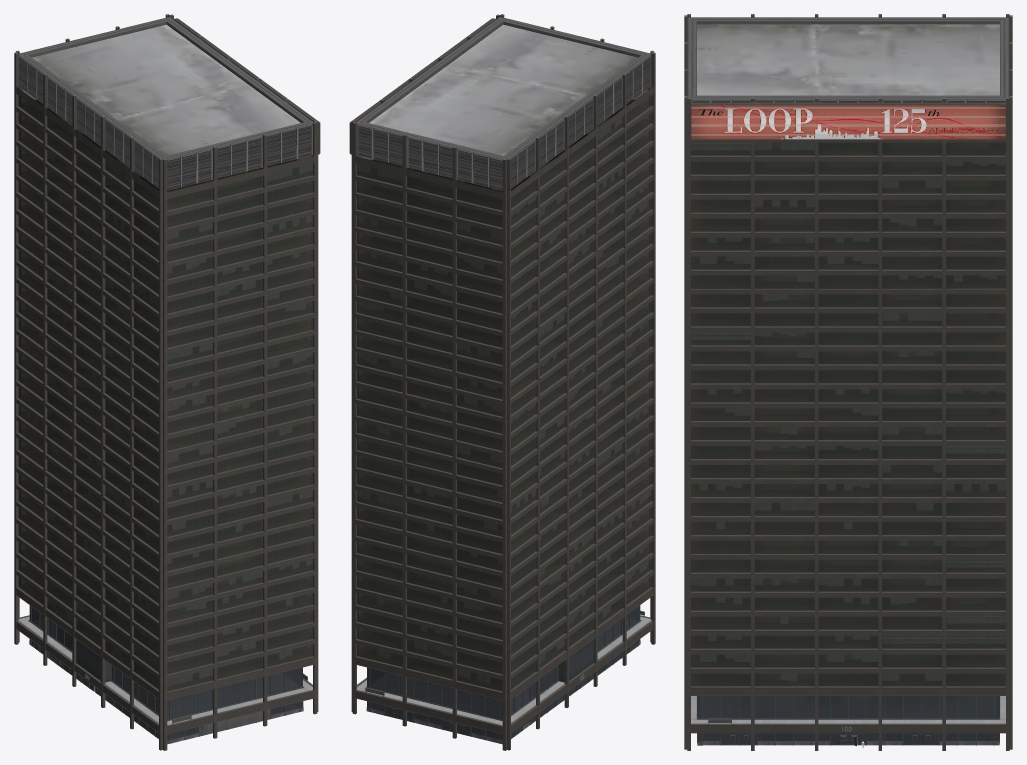
Rendered from office_small.glb.
3 views of the same model, side by side, from view 1: azimuth 30°, elevation 25°; view 2: azimuth 150°, elevation 25°; view 3: azimuth 270°, elevation 25° (orthographic). The views are drawn at different scales.
Parts seen in each view (by area): view 1: Cube.002_Material_0, Cube.005_Glass_0, Cube.012_Parralax Mapping_0, Cube.001_Windows_0, Cube.006_Emmisive_0, Cube.007_Glass Lobby_0, Cube.003_Blinds_0; view 2: Cube.002_Material_0, Cube.005_Glass_0, Cube.012_Parralax Mapping_0, Cube.001_Windows_0, Cube.006_Emmisive_0, Cube.007_Glass Lobby_0, Cube.003_Blinds_0; view 3: Cube.005_Glass_0, Cube.002_Material_0, Cube.012_Parralax Mapping_0, Cube.001_Windows_0, Cube.004_Billboard_0, Cube.007_Glass Lobby_0, Cube.003_Blinds_0, Cube.006_Emmisive_0.
Boxes of the visible parts, x1,y1,x2,y2 form: Cube.002_Material_0: (14,14,320,750); Cube.005_Glass_0: (18,90,312,690); Cube.012_Parralax Mapping_0: (19,96,311,690); Cube.001_Windows_0: (18,90,312,691); Cube.006_Emmisive_0: (18,56,312,190); Cube.007_Glass Lobby_0: (29,605,303,740); Cube.003_Blinds_0: (19,114,311,685); Cube.002_Material_0: (349,14,655,750); Cube.005_Glass_0: (357,90,651,690); Cube.012_Parralax Mapping_0: (358,96,650,690); Cube.001_Windows_0: (357,90,651,691); Cube.006_Emmisive_0: (357,56,651,190); Cube.007_Glass Lobby_0: (367,605,640,740); Cube.003_Blinds_0: (358,118,650,682); Cube.005_Glass_0: (691,142,1005,685); Cube.002_Material_0: (684,14,1012,750); Cube.012_Parralax Mapping_0: (691,143,1005,685); Cube.001_Windows_0: (691,143,1005,686); Cube.004_Billboard_0: (691,105,1005,139); Cube.007_Glass Lobby_0: (697,696,999,744); Cube.003_Blinds_0: (692,143,1004,680); Cube.006_Emmisive_0: (691,99,1005,102).
Size of the model in its own units: 60.83 by 212 by 96.85.
Materials: 12 (11 with a texture image).
